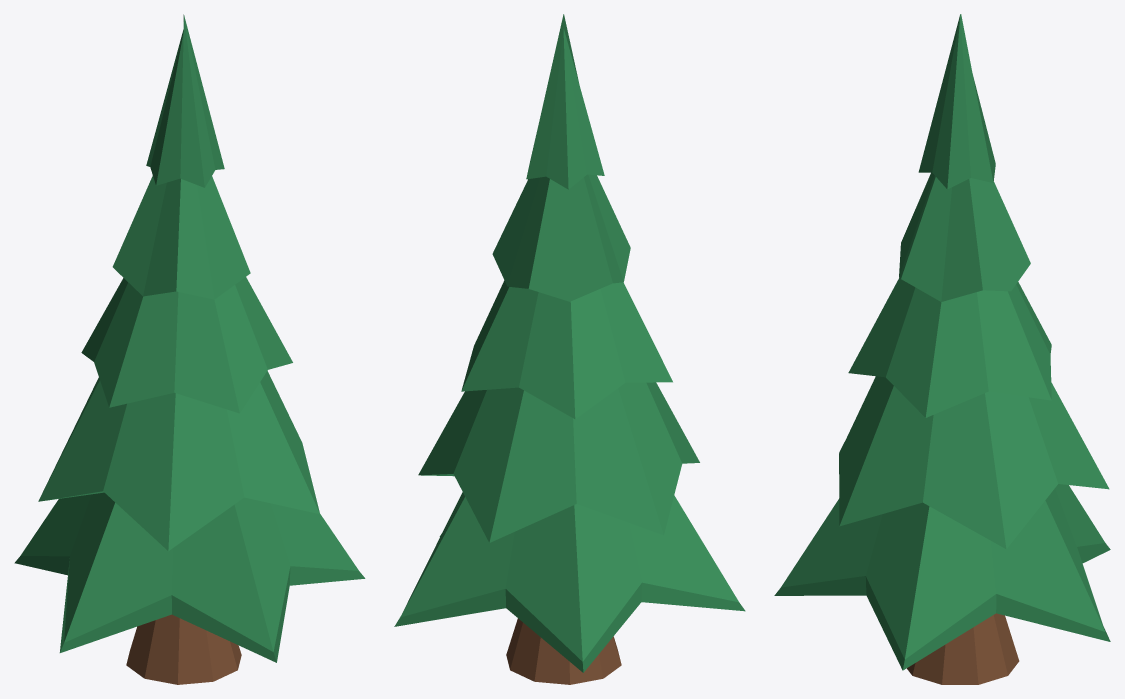
Rendered from tree2.glb.
3 renders of one model, left to right at view 1: azimuth 30°, elevation 25°; view 2: azimuth 150°, elevation 25°; view 3: azimuth 270°, elevation 25°, orthographic.
Visible parts, largest first — view 1: Cylinder; view 2: Cylinder; view 3: Cylinder.
Part boxes in pixels (<box>): Cylinder: <box>14,14,365,684</box>; Cylinder: <box>394,14,745,684</box>; Cylinder: <box>774,14,1110,684</box>.
Size of the model in its own units: 7.43 by 14.99 by 7.07.
Materials: 1 (1 with a texture image).
